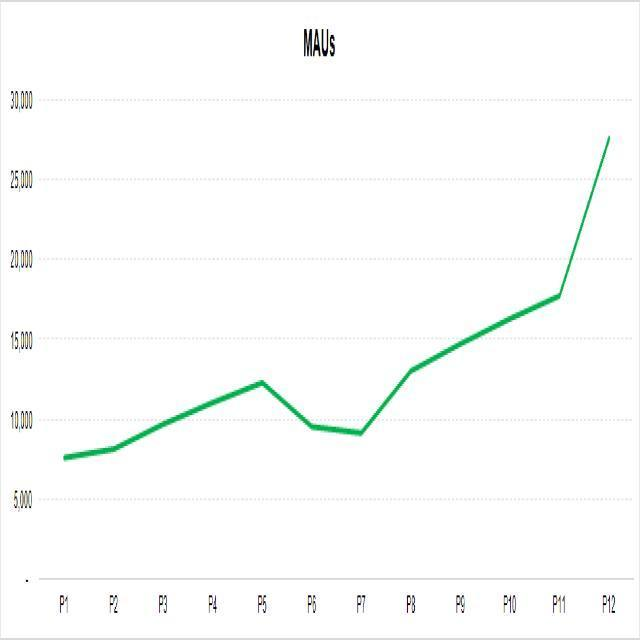axis: (38, 575, 636, 585), (39, 61, 49, 588)
line: (62, 131, 615, 463)
